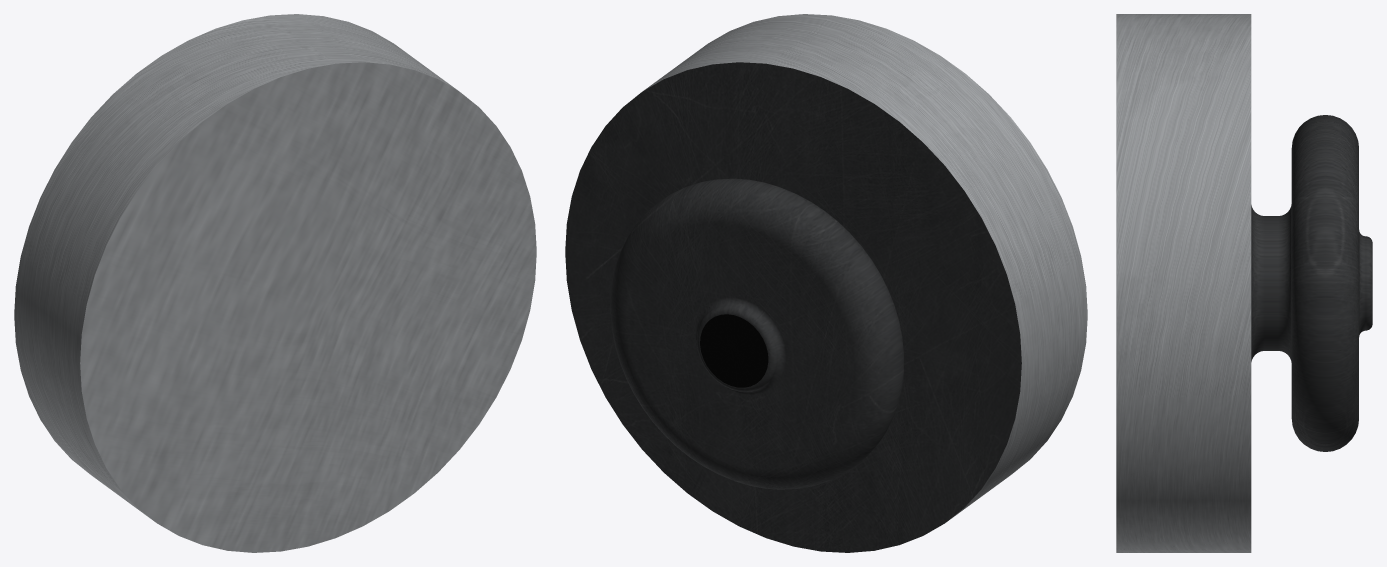
Rendered from camera.glb.
The picture shows the model from 3 angles, left to right: view 1: azimuth 30°, elevation 25°; view 2: azimuth 150°, elevation 25°; view 3: azimuth 270°, elevation 25°; orthographic projection. The views are drawn at different scales.
Visible parts, largest first — view 1: camera_design.SLDPRT; view 2: camera_design.SLDPRT; view 3: camera_design.SLDPRT.
Part boxes in pixels (<box>): camera_design.SLDPRT: <box>14,14,536,552</box>; camera_design.SLDPRT: <box>565,14,1087,552</box>; camera_design.SLDPRT: <box>1116,14,1372,552</box>.
Size of the model in its own units: 0.04 by 0.04 by 0.019.
3 materials, 3 textured.
